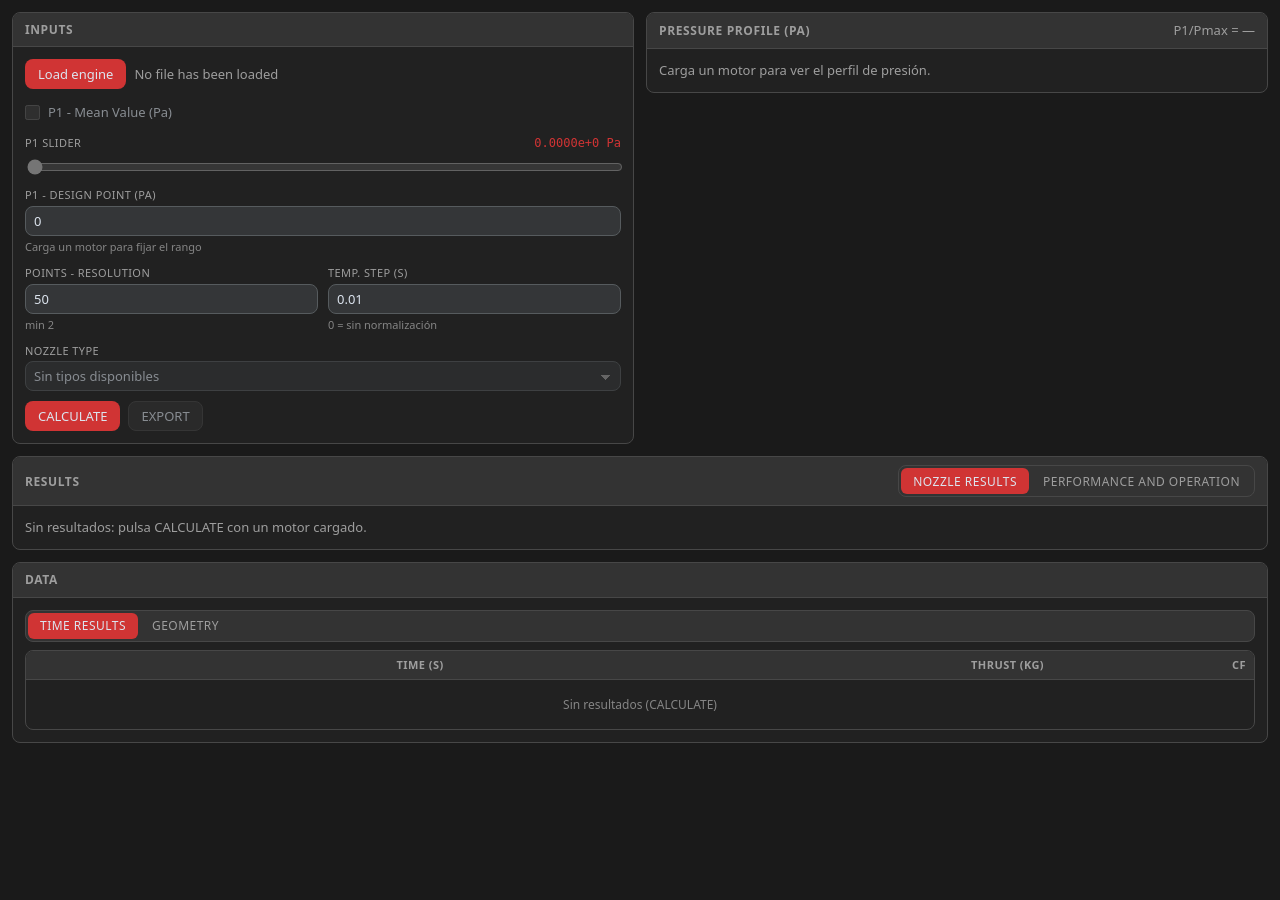
Test: NozzleTab (T2) › CALCULATE sin motor avisa sin romper (T2-10)
Click the button "CALCULATE". click: (73, 416)
box: [25,402,120,432]
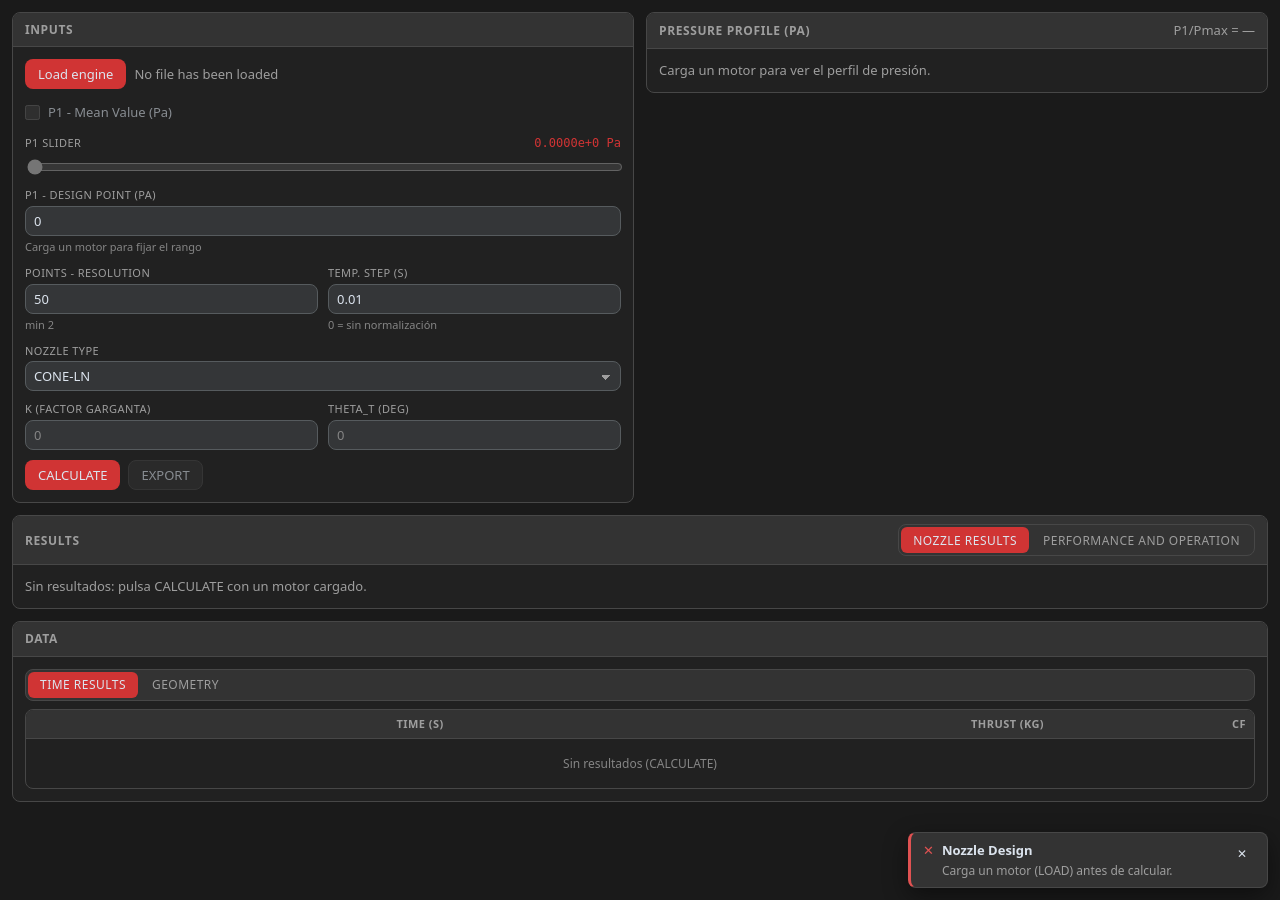
Check: the text with test id "nozzle-engine-label" reads "No file has been loaded", box [134,65,278,83]
Check: the message shows "Carga un motor (LOAD) antes de calcular.", box [942,862,1173,879]
